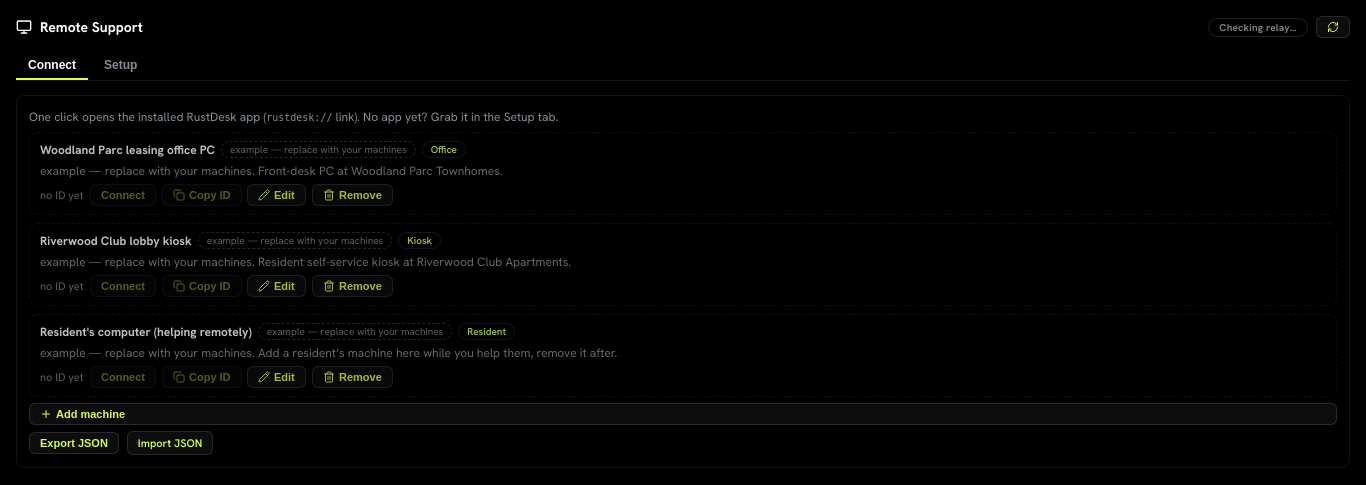
Connect tab (default) › removes a machine via its row button (UI-initiated only)
Step 1. Click the button with aria-label "Remove Riverwood Club lobby kiosk" → x=352, y=286, box [312,275,393,297]
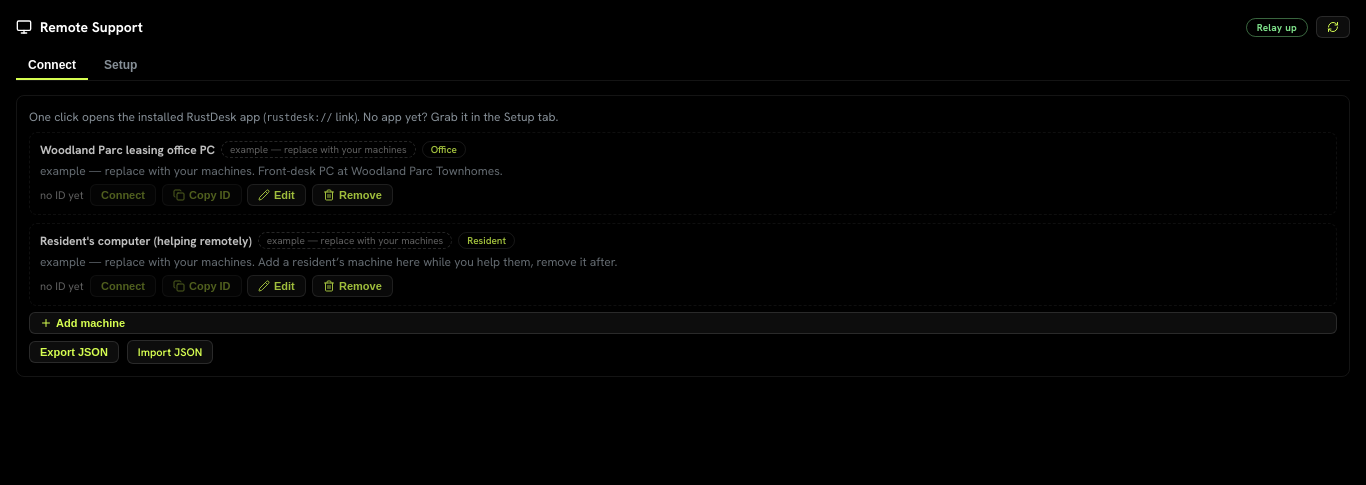
Check: the text "Riverwood Club lobby kiosk" is gone
Check: the text "example — replace with your machines" is shown 2 times, box [221,141,416,158]; [258,232,452,249]
